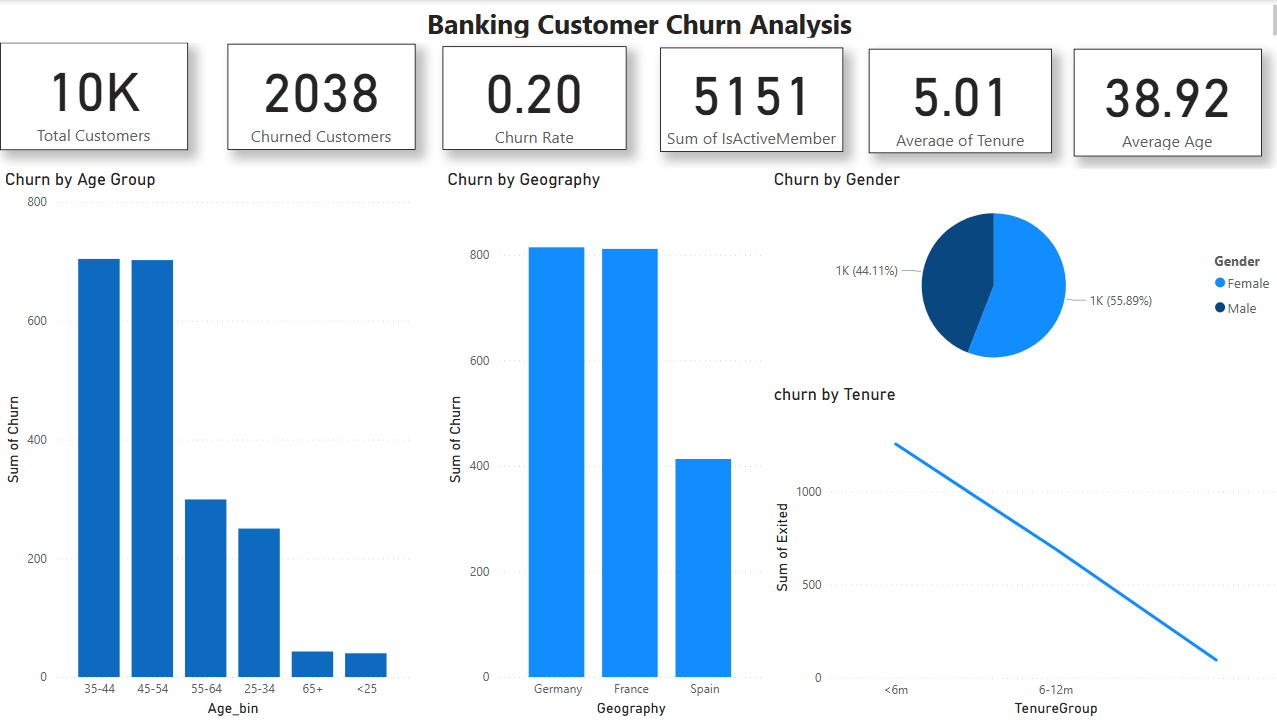

This screenshot's page, from the dashboard's own definition file:
{"tool":"powerbi","page":{"name":"Page 1","canvas":[1280,720],"ordinal":0},"visuals":[{"type":"card","fields":{"Values":["CustomerChurn.Total Customers"]},"box":[0,42.6,187.1,107.1],"z":0},{"type":"card","fields":{"Values":["CustomerChurn.Churned Customers"]},"box":[225.9,43.9,187.1,105.8],"z":1000},{"type":"card","fields":{"Values":["CustomerChurn.Churn Rate"]},"box":[440.1,46.5,183.3,103.2],"z":2000},{"type":"card","fields":{"Values":["CustomerChurn.Average Age"]},"box":[1069,48.5,187,107],"z":3000},{"type":"card","fields":{"Values":["Sum(CustomerChurn.IsActiveMember)"]},"box":[656.6,47.1,182.7,104.2],"z":4000},{"type":"card","fields":{"Values":["Avg(CustomerChurn.Tenure)"]},"box":[864.9,48.5,182.7,104.2],"z":5000},{"type":"pieChart","title":"Churn by Gender","fields":{"Category":["CustomerChurn.Gender"],"Y":["Sum(CustomerChurn.Churn)"]},"box":[765.6,168.3,514.4,213.3],"z":7000},{"type":"clusteredColumnChart","title":"Churn by Age Group","fields":{"Y":["Sum(CustomerChurn.Churn)"],"Category":["CustomerChurn.Age_bin"]},"box":[0,168.3,412.4,549.9],"z":8000},{"type":"textbox","box":[0,0,1280.3,42.6],"z":9000},{"type":"clusteredColumnChart","title":"Churn by Geography","fields":{"Y":["Sum(CustomerChurn.Churn)"],"Category":["CustomerChurn.Geography"]},"box":[440.9,168.3,324.7,549.9],"z":9001},{"type":"lineChart","title":"churn by Tenure","fields":{"Y":["Sum(churn_for_powerbi.Exited)"],"Category":["churn_for_powerbi.TenureGroup"]},"box":[765.6,381.6,514.4,336.6],"z":9002}]}

Visuals, with their boxes in screenshot pixels (x1, y1, x2, y2), scaled from the page's 1280x720 canvas onto the 1277x722 screenshot:
card - CustomerChurn.Total Customers: <box>0,43,187,150</box>
card - CustomerChurn.Churned Customers: <box>225,44,412,150</box>
card - CustomerChurn.Churn Rate: <box>439,47,622,150</box>
card - CustomerChurn.Average Age: <box>1066,49,1253,156</box>
card - Sum(CustomerChurn.IsActiveMember): <box>655,47,837,152</box>
card - Avg(CustomerChurn.Tenure): <box>863,49,1045,153</box>
"Churn by Gender" pieChart: <box>764,169,1276,383</box>
"Churn by Age Group" clusteredColumnChart: <box>0,169,411,720</box>
textbox: <box>0,0,1276,43</box>
"Churn by Geography" clusteredColumnChart: <box>440,169,764,720</box>
"churn by Tenure" lineChart: <box>764,383,1276,720</box>
